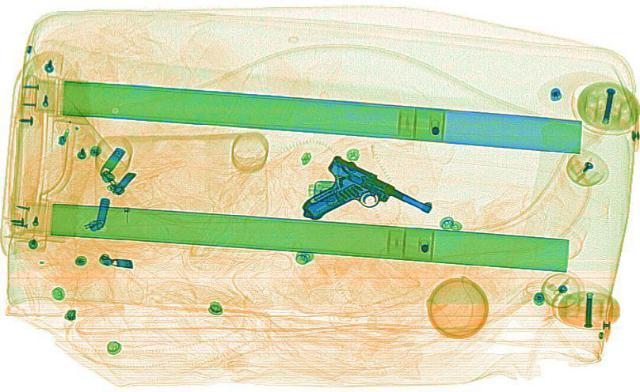Gun: (266, 152, 440, 248)
